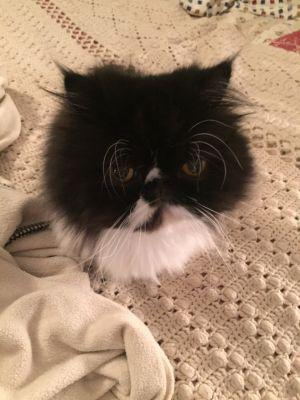persian: (27, 30, 261, 260)
